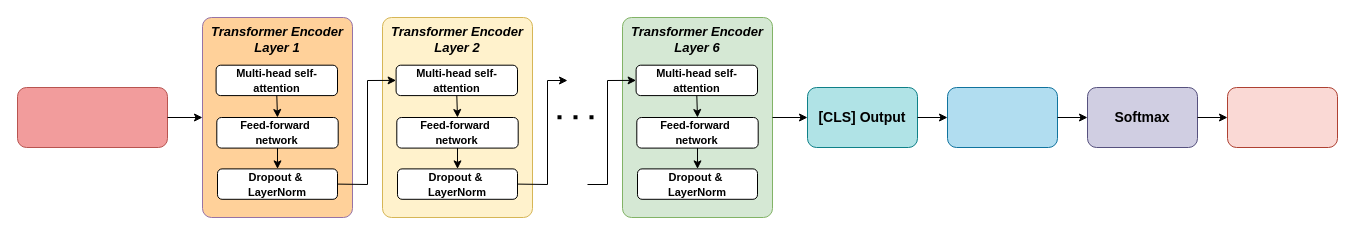
This 1355x235 diagram has some shape labels left out. The centre of each missing label's shape, as x and y in pixels:
"Fully Connected (9 neurons)" goes at (x=1002, y=117).
"Predicted Output Class" goes at (x=1282, y=117).
"Token Sequence + [CLS]" goes at (x=92, y=117).
